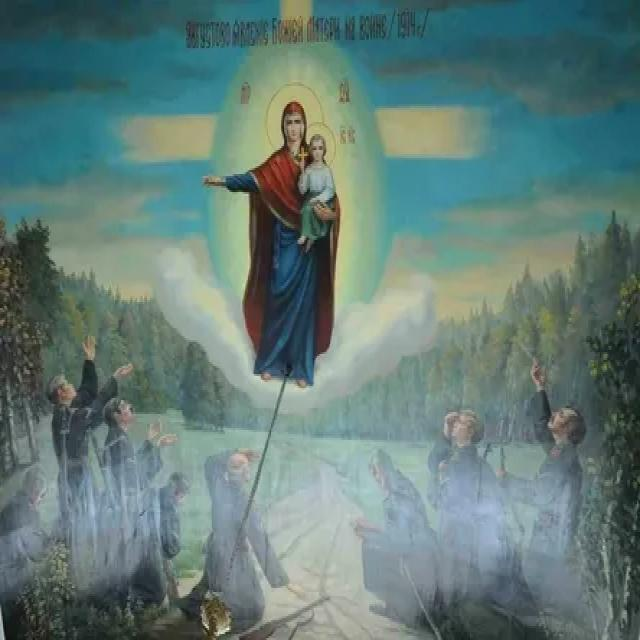mother of god: (197, 93, 361, 394)
